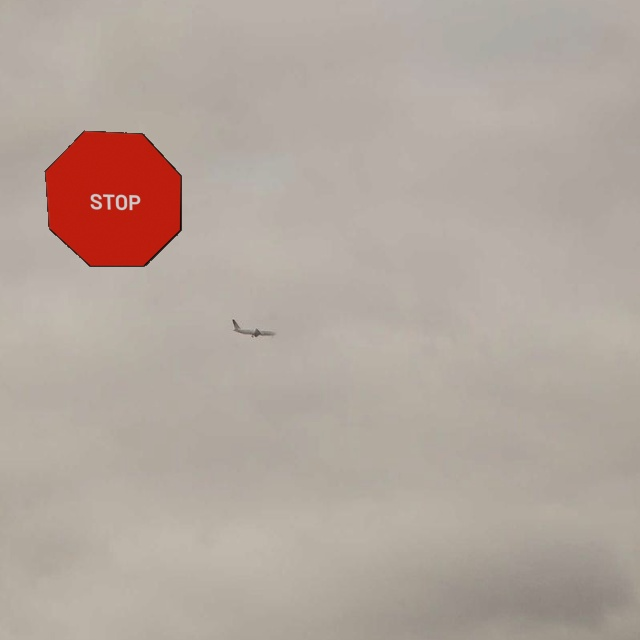STOP: (44, 130, 182, 267)
